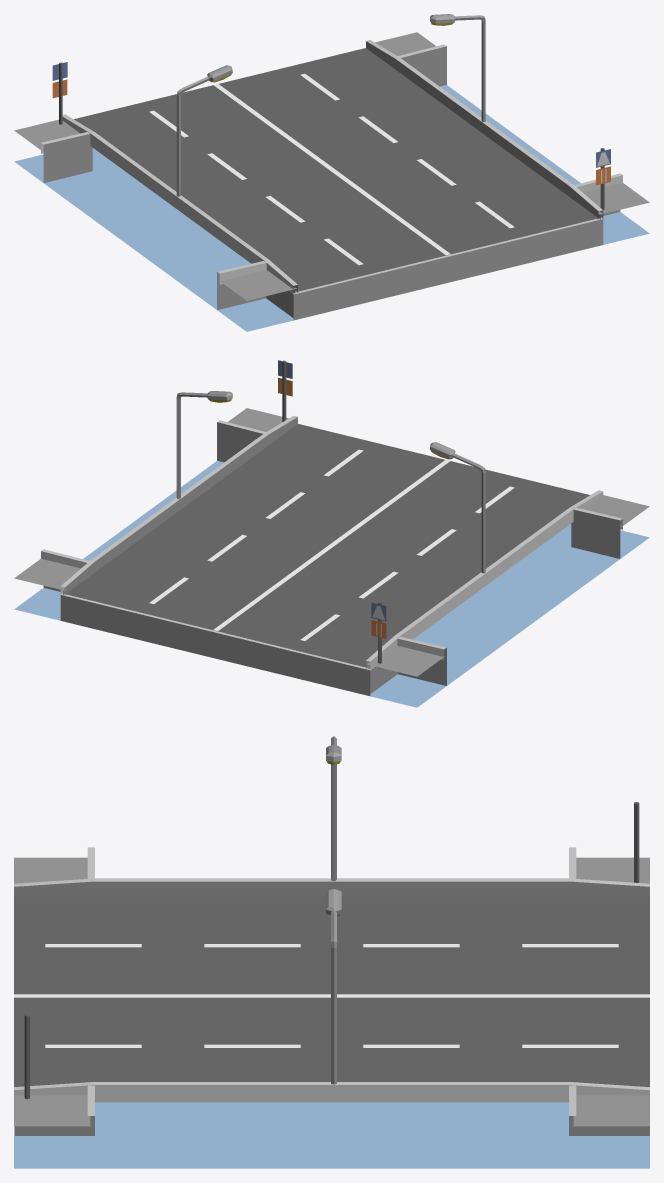
Rendered from road_tile_bridge_2x2_004.fbx.
3 views of the same model, one above another, from view 1: azimuth 30°, elevation 25°; view 2: azimuth 150°, elevation 25°; view 3: azimuth 270°, elevation 25° (orthographic). The views are drawn at different scales.
Visible parts, largest first — view 1: road_tile_bridge_2x2_004; view 2: road_tile_bridge_2x2_004; view 3: road_tile_bridge_2x2_004.
Boxes of the visible parts, <box> form: road_tile_bridge_2x2_004: <box>14,14,649,331</box>; road_tile_bridge_2x2_004: <box>14,360,649,707</box>; road_tile_bridge_2x2_004: <box>14,736,649,1168</box>.
Bounding box in the file's own units: 1600 × 593 × 1600.
